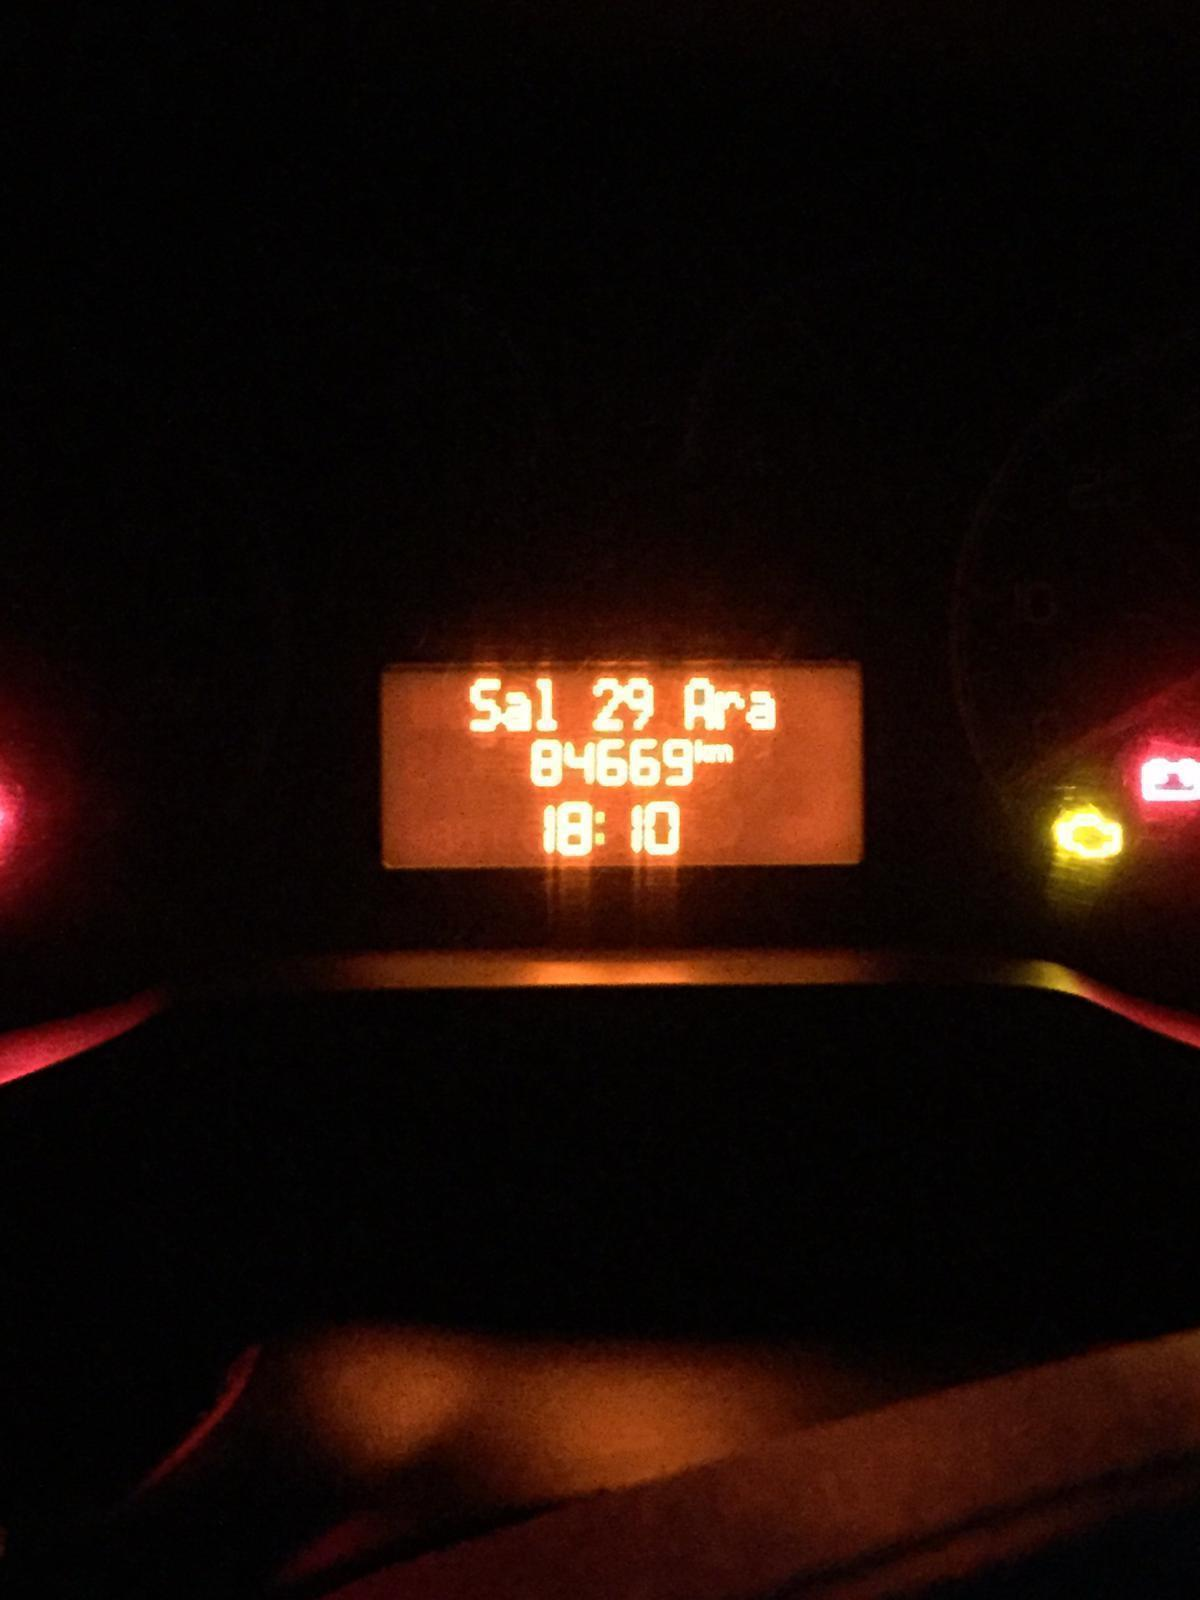0: (645, 799, 679, 857)
1: (626, 801, 644, 855), (539, 801, 557, 854)
2: (590, 673, 621, 734)
4: (563, 738, 595, 786)
6: (629, 736, 661, 787), (594, 738, 626, 787)
8: (558, 797, 595, 859), (529, 737, 563, 787)
9: (623, 677, 657, 731), (661, 736, 693, 787)
X: (469, 674, 502, 732), (683, 674, 715, 731), (534, 675, 558, 734), (504, 688, 533, 733), (713, 687, 742, 729), (746, 689, 775, 731), (592, 808, 609, 849), (712, 740, 734, 763), (693, 738, 712, 765)
odometer: (373, 655, 868, 873)
